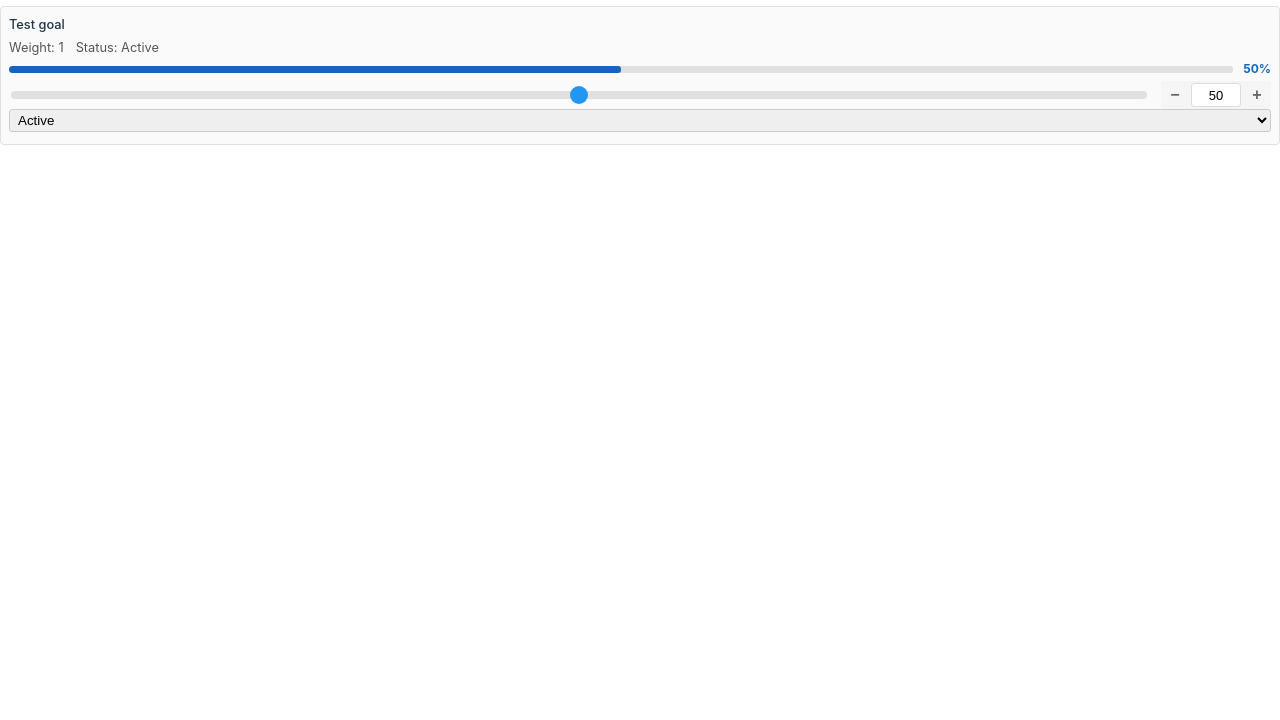
Scenario: GoalCard › shows delete confirmation modal when delete button clicked
The image size is (1280, 720).
# Activate the card so the delete icon appears
Click the element with class "goal-card" at (640, 76), box 0,6 -> 1279,145
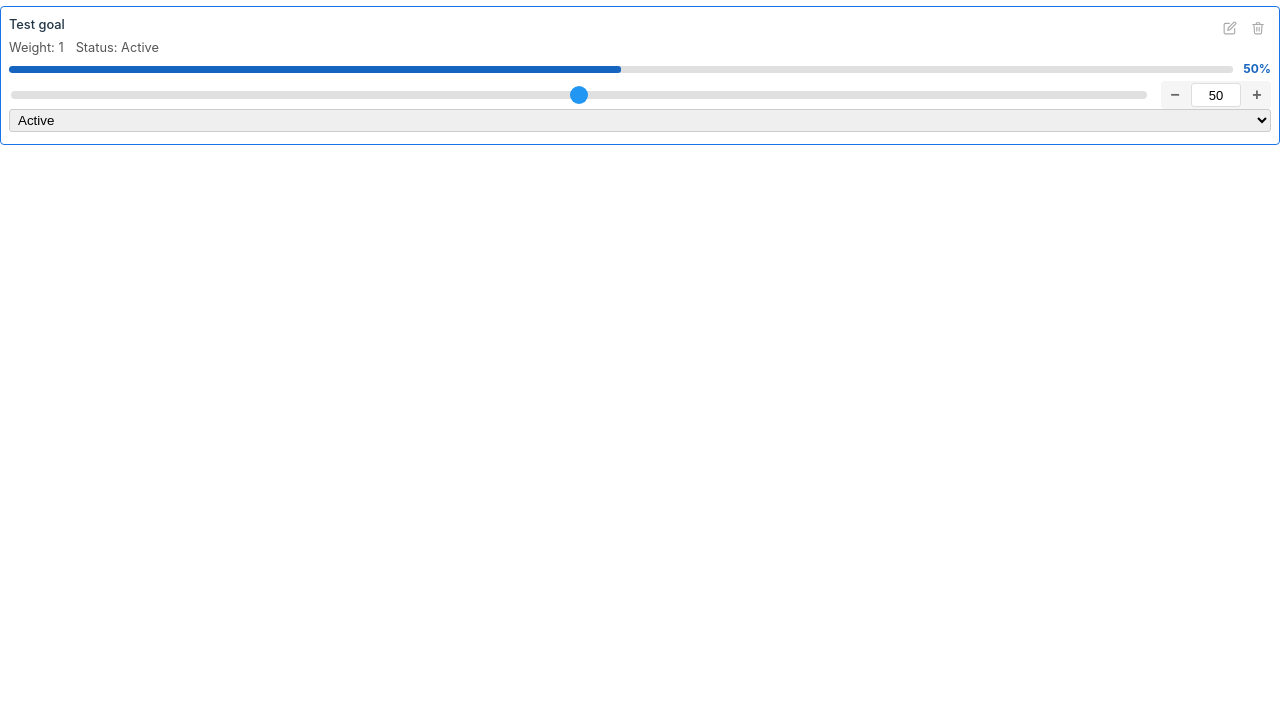
Click the button with class "btn-icon-danger" at (1258, 28), box 1245,15 -> 1271,41
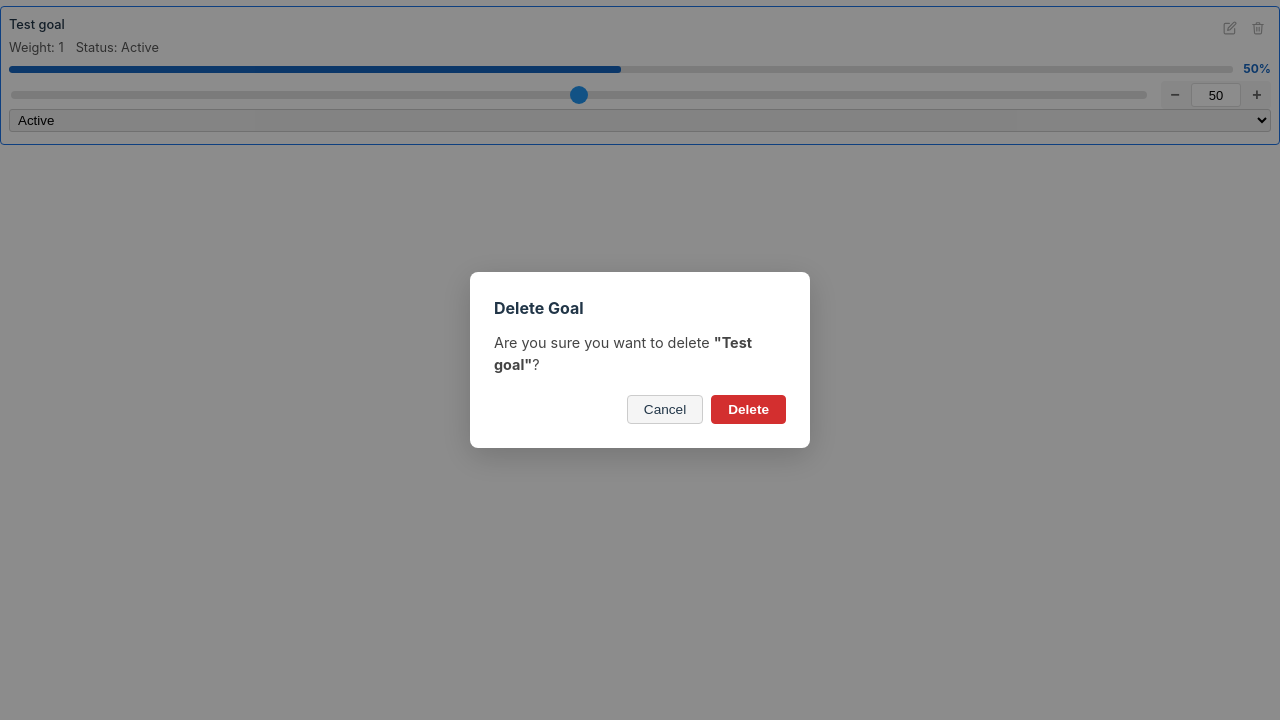
Now the element with class "modal-backdrop" is shown
Now the heading with class "modal-title" reads "Delete Goal", box 494,298 -> 584,318
